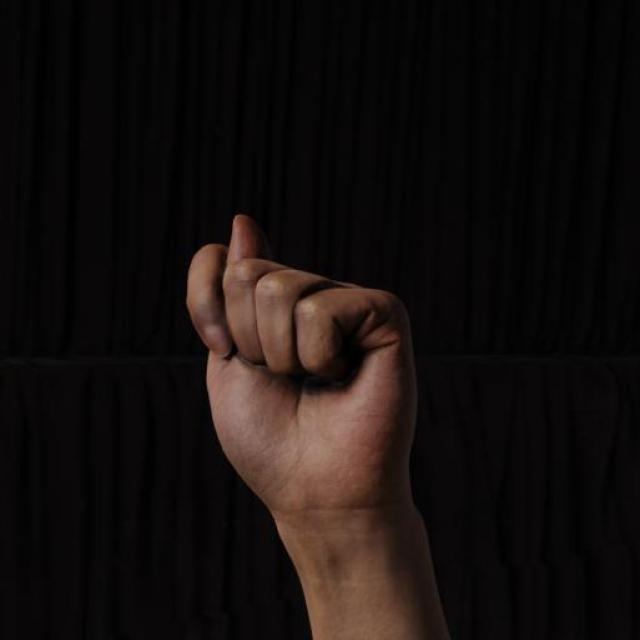T: (179, 207, 422, 521)
